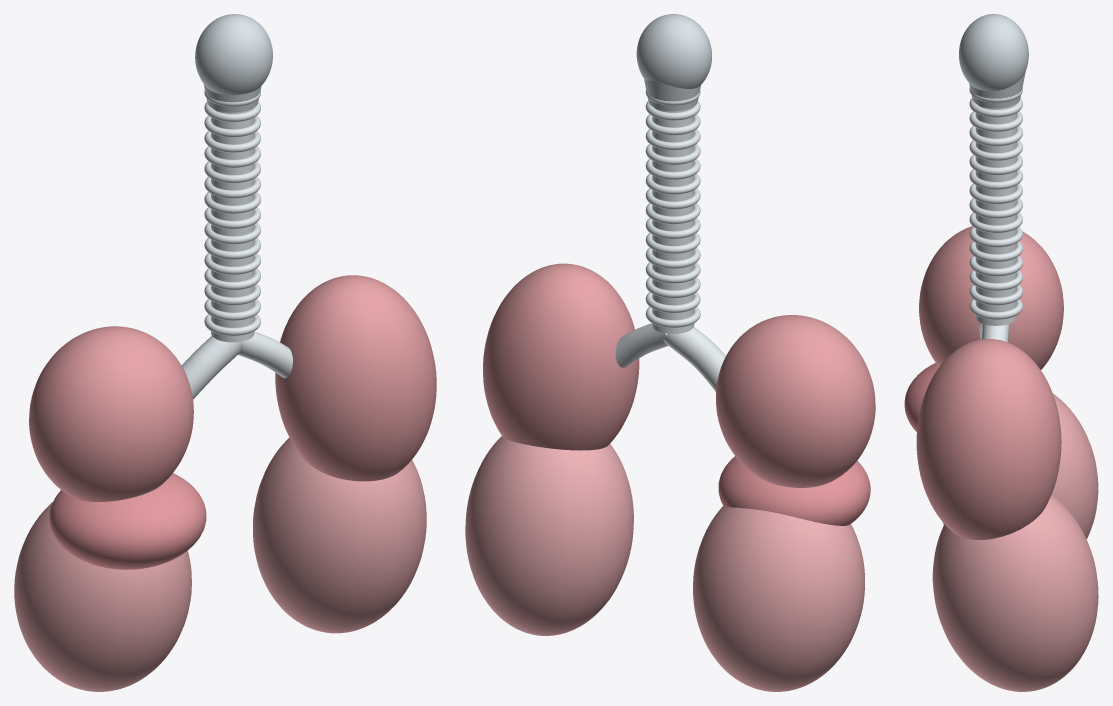
File: schematic-respiratory-tract.glb
The picture shows the model from 3 angles, left to right: view 1: azimuth 30°, elevation 25°; view 2: azimuth 150°, elevation 25°; view 3: azimuth 270°, elevation 25°; orthographic projection. The views are drawn at different scales.
Visible parts, largest first — view 1: Left superior lobe, Left inferior lobe, Right superior lobe, Right inferior lobe, Trachea, Right middle lobe, Larynx, Right main bronchus, Left main bronchus; view 2: Left inferior lobe, Right inferior lobe, Left superior lobe, Right superior lobe, Trachea, Right middle lobe, Larynx, Right main bronchus, Left main bronchus; view 3: Left superior lobe, Left inferior lobe, Trachea, Right superior lobe, Larynx, Right inferior lobe, Right middle lobe, Left main bronchus.
Part boxes in pixels (x1,y1,x2,y2): Left superior lobe: (275,275,436,481); Left inferior lobe: (253,437,426,633); Right superior lobe: (29,326,193,501); Right inferior lobe: (14,502,191,691); Trachea: (204,90,260,342); Right middle lobe: (49,473,206,569); Larynx: (195,14,272,112); Right main bronchus: (181,336,243,399); Left main bronchus: (238,331,292,378); Left inferior lobe: (465,436,633,635); Right inferior lobe: (693,506,864,691); Left superior lobe: (483,263,639,450); Right superior lobe: (716,315,875,487); Trachea: (645,90,700,333); Right middle lobe: (718,456,870,525); Larynx: (636,14,711,111); Right main bronchus: (663,327,725,391); Left main bronchus: (615,323,668,367); Left superior lobe: (916,339,1061,539); Left inferior lobe: (932,495,1098,691); Trachea: (969,87,1022,325); Right superior lobe: (919,226,1063,369); Larynx: (959,14,1028,108); Right inferior lobe: (942,393,1098,538); Right middle lobe: (904,363,938,431); Left main bronchus: (982,324,1009,342).
Size of the model in its own units: 17.6 by 28.08 by 8.03.
